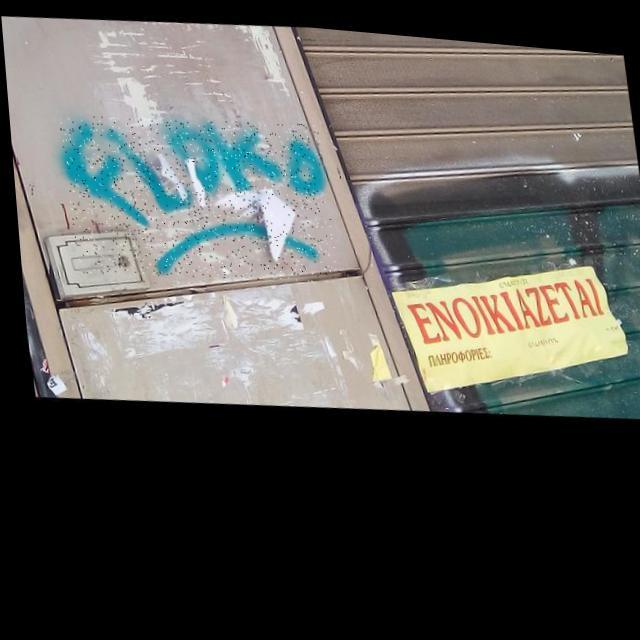-: (56, 101, 336, 290)
